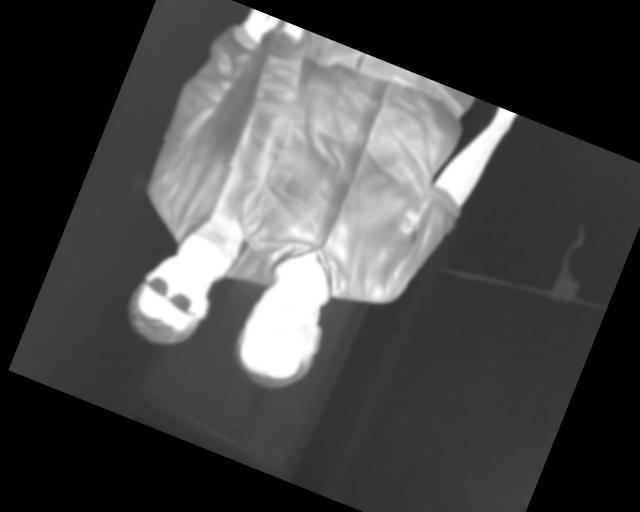face: (225, 271, 338, 401), (117, 239, 226, 359)
